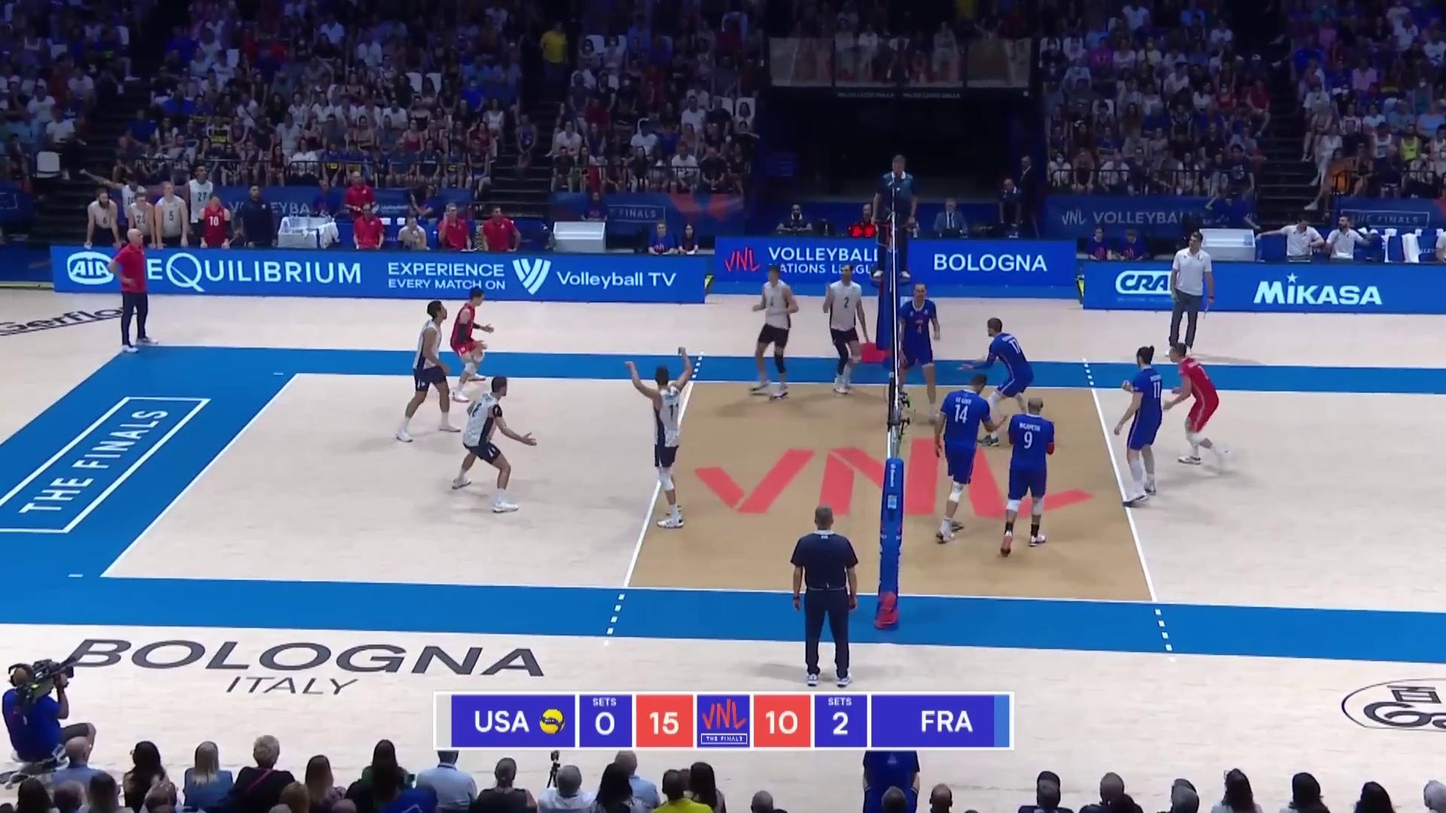player: (930, 377, 1001, 544), (624, 360, 693, 523), (1110, 346, 1177, 503), (457, 380, 532, 506), (1003, 397, 1061, 547), (396, 301, 459, 439), (967, 318, 1035, 437), (823, 263, 874, 400), (750, 264, 800, 402), (1171, 343, 1218, 463), (900, 283, 938, 424), (450, 288, 492, 400)
refree: (791, 509, 865, 682), (875, 154, 912, 265)
